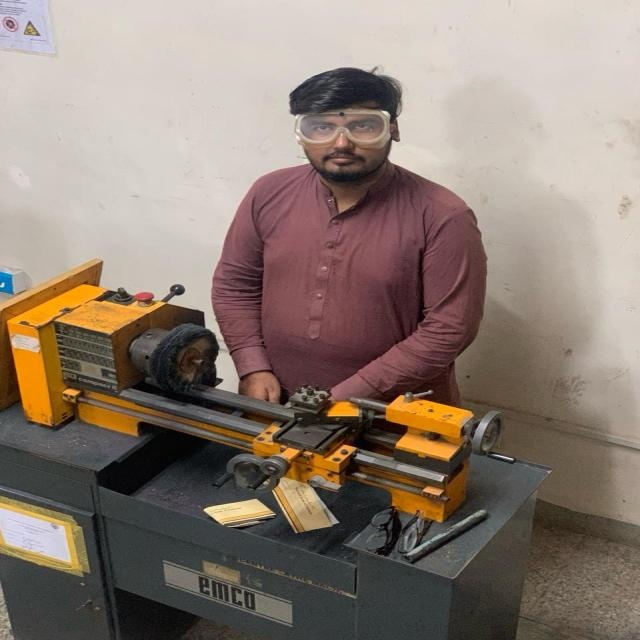googles: (290, 107, 392, 147)
